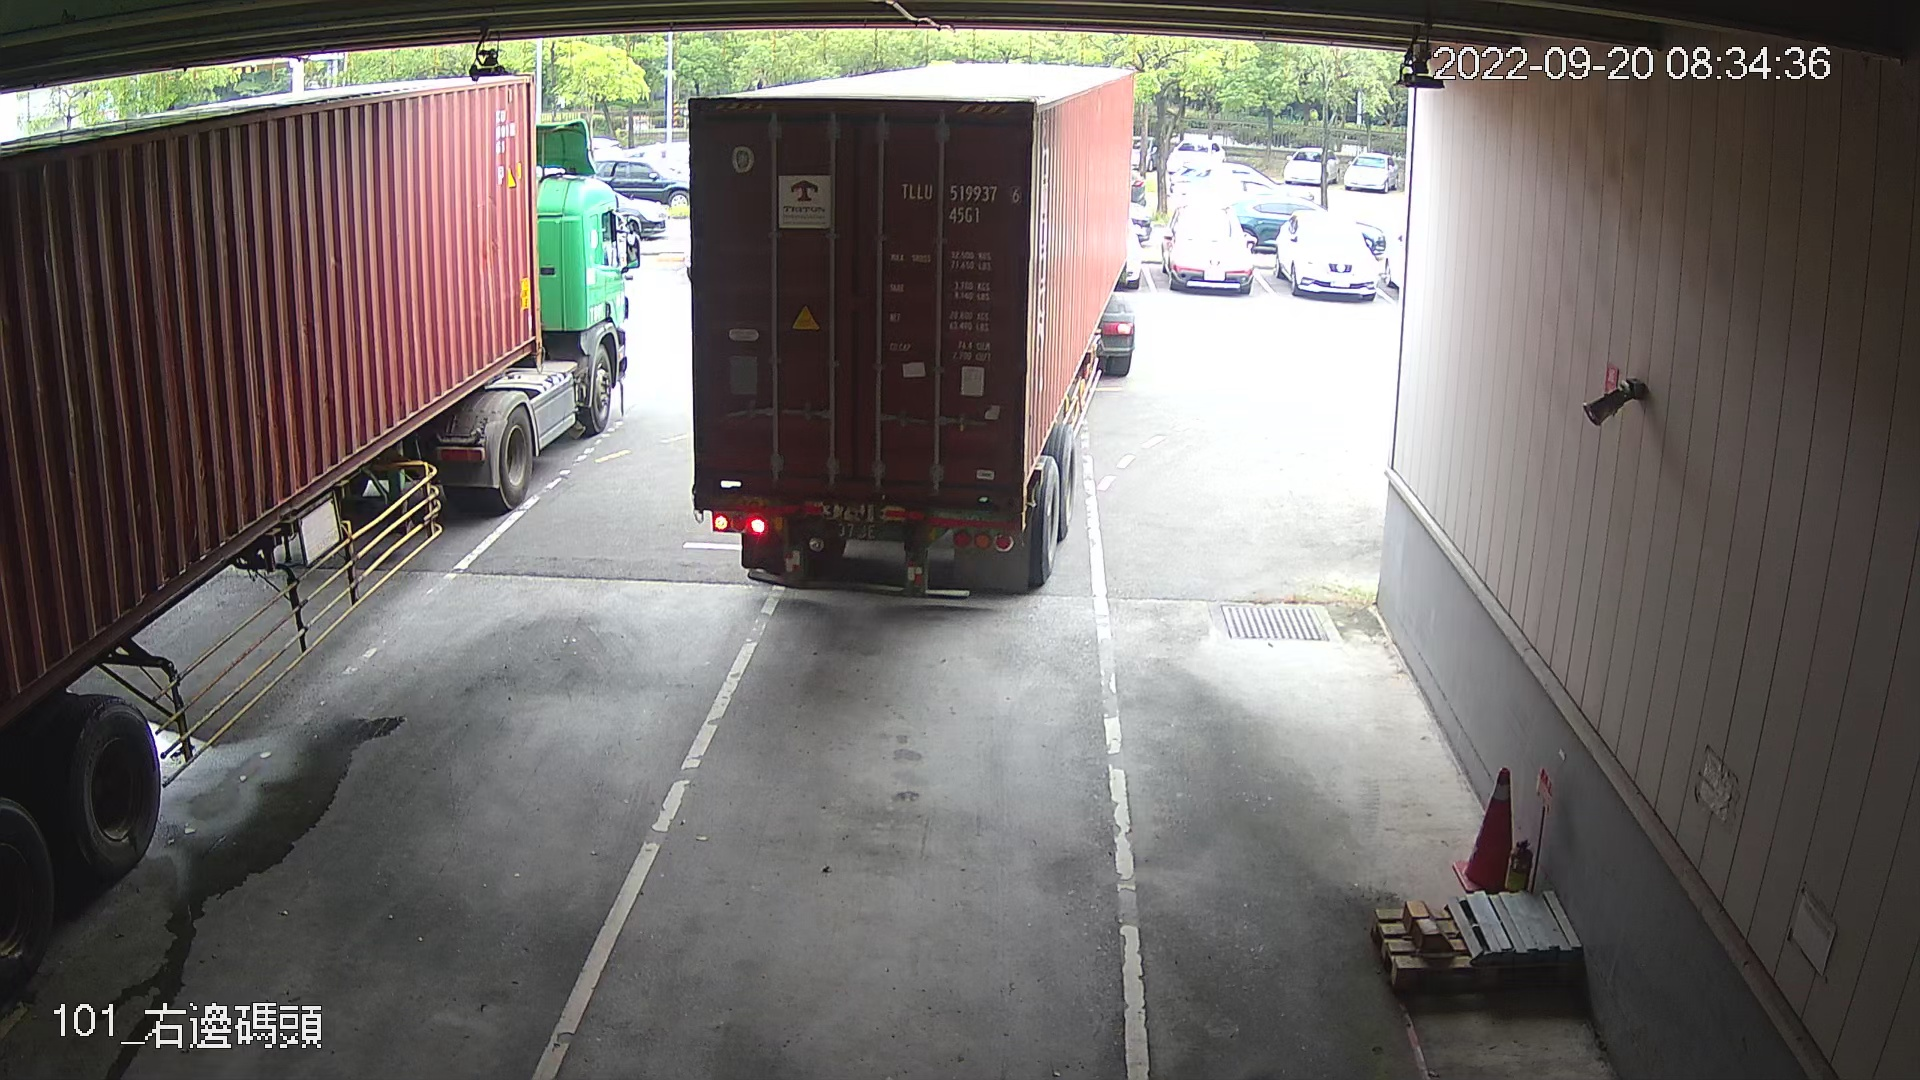container: (894, 171, 1029, 229)
